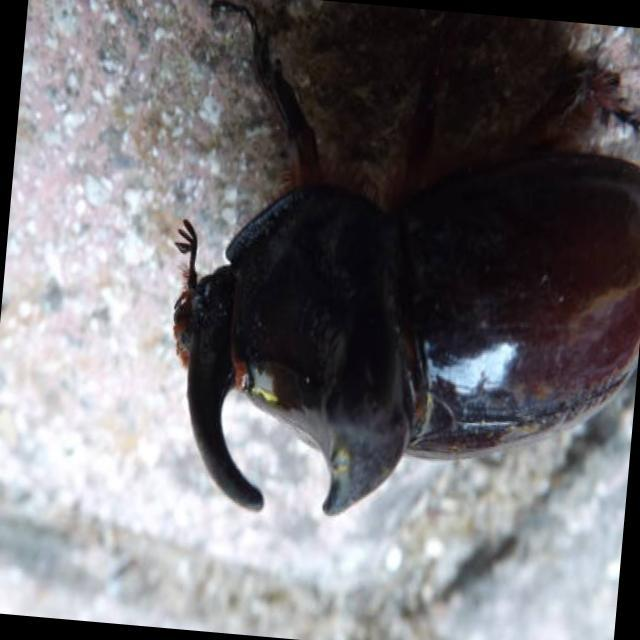Rhino-beetle: (132, 144, 640, 545)
